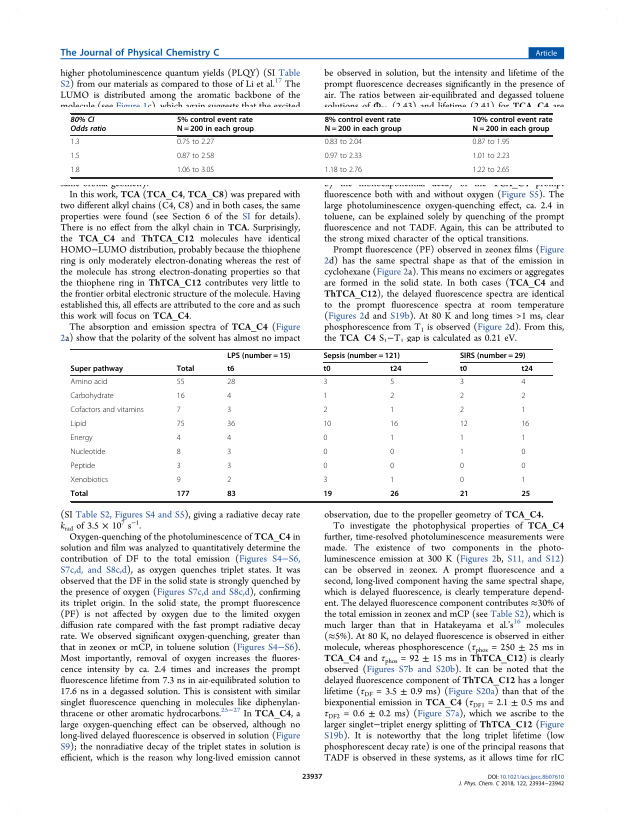borderless: (69, 347, 552, 501), (69, 112, 552, 177)
cell: (472, 116, 553, 134), (176, 116, 255, 134), (324, 116, 403, 134), (70, 405, 145, 415), (322, 351, 401, 360), (70, 116, 107, 133), (459, 351, 526, 360), (226, 351, 291, 360), (70, 364, 124, 374), (70, 391, 115, 401), (70, 475, 109, 485), (70, 377, 108, 387), (70, 447, 106, 457), (176, 139, 215, 146), (324, 139, 363, 146), (472, 139, 511, 146), (176, 153, 215, 160), (324, 153, 363, 160), (472, 153, 511, 160), (176, 167, 215, 174), (324, 167, 363, 174), (472, 167, 511, 174), (70, 461, 96, 471), (70, 433, 93, 443), (176, 364, 195, 374), (70, 489, 89, 499), (70, 419, 87, 429), (389, 364, 403, 374), (520, 364, 534, 374), (176, 489, 190, 499), (226, 489, 237, 499), (322, 489, 333, 499), (389, 489, 400, 499), (520, 489, 531, 499), (226, 377, 236, 387), (226, 419, 236, 429), (322, 419, 332, 429), (389, 419, 399, 429), (459, 419, 469, 429), (520, 419, 530, 429), (459, 489, 469, 499), (226, 364, 235, 374), (322, 364, 331, 374), (459, 364, 468, 374), (176, 377, 185, 387), (176, 391, 185, 401), (176, 419, 185, 429), (70, 139, 80, 146), (70, 153, 80, 160), (70, 167, 80, 174), (322, 377, 328, 387), (389, 377, 395, 387), (459, 377, 465, 387), (520, 377, 526, 387), (226, 391, 232, 401), (322, 391, 328, 401), (389, 391, 395, 401), (459, 391, 465, 401), (520, 391, 526, 401), (176, 405, 182, 415), (226, 405, 232, 415), (322, 405, 328, 415), (389, 405, 395, 415), (459, 405, 465, 415), (520, 405, 526, 415), (176, 433, 182, 443), (226, 433, 232, 443), (322, 433, 328, 443), (389, 433, 395, 443), (459, 433, 465, 443), (520, 433, 526, 443), (176, 447, 182, 457), (226, 447, 232, 457), (322, 447, 328, 457), (389, 447, 395, 457), (459, 447, 465, 457), (520, 447, 526, 457), (176, 461, 182, 471), (226, 461, 232, 471), (322, 461, 328, 471), (389, 461, 395, 471), (459, 461, 465, 471), (520, 461, 526, 471), (176, 475, 182, 485), (226, 475, 232, 485), (322, 475, 328, 485), (389, 475, 395, 485), (459, 475, 465, 485), (520, 475, 526, 485)
